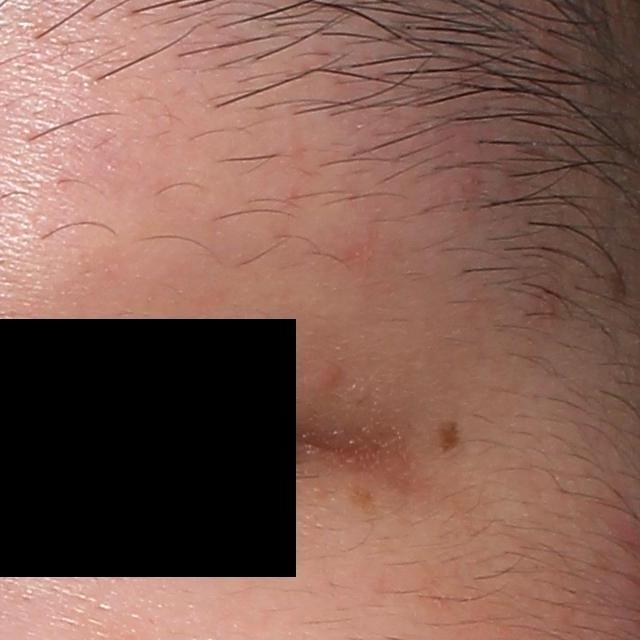nevus: (434, 412, 471, 461)
